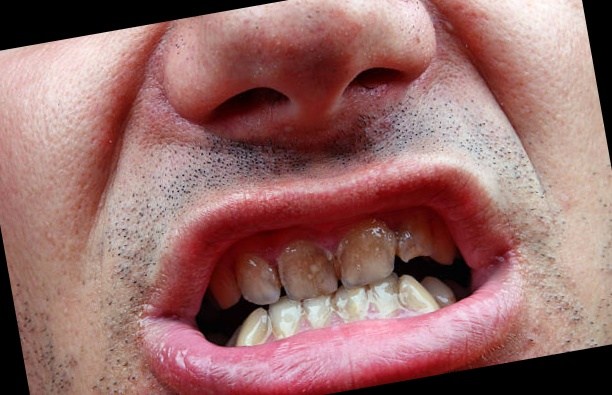Tooth Discoloration: (234, 213, 427, 305)
